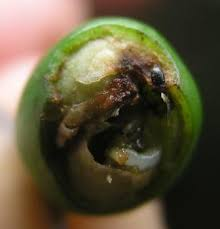broca de cafe: (51, 20, 191, 206)
